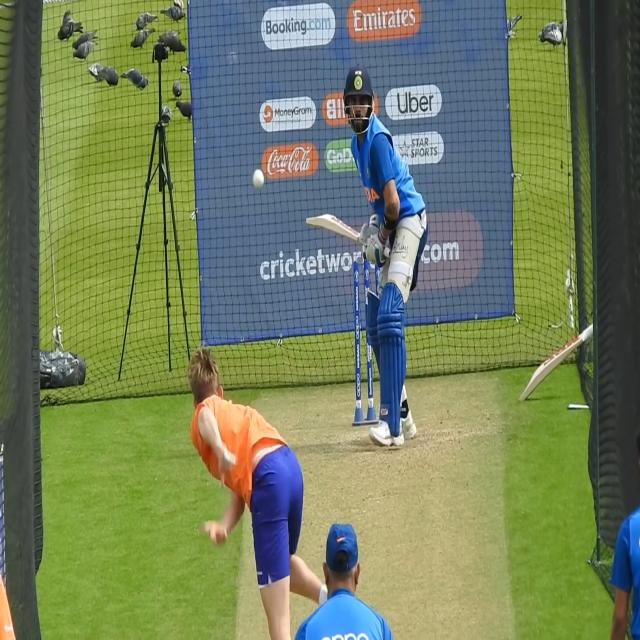ball: (251, 166, 266, 193)
stump: (352, 255, 380, 425)
